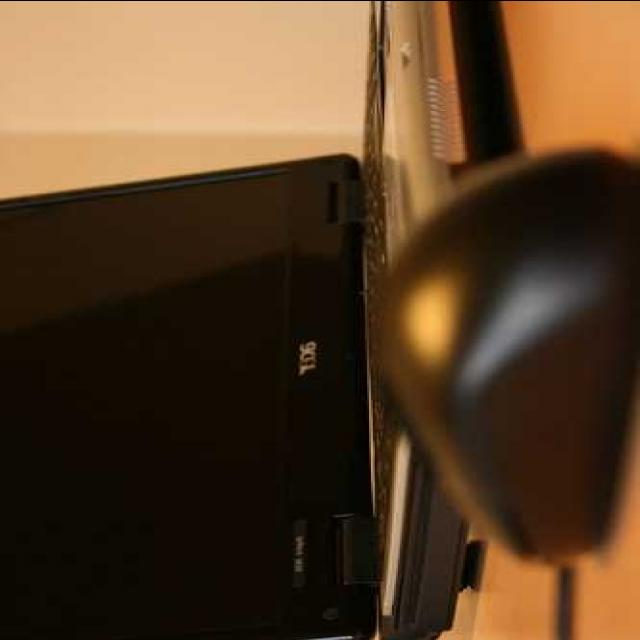laptop: (10, 97, 492, 617)
